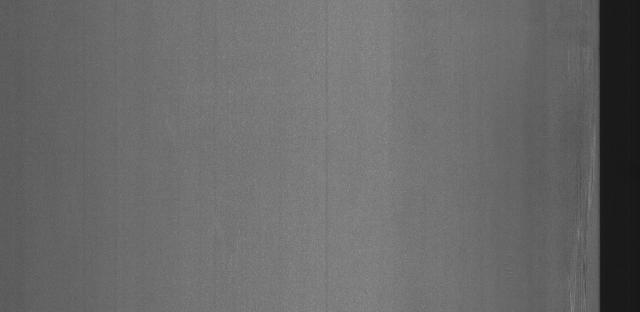silk_spot: (560, 27, 598, 309)
